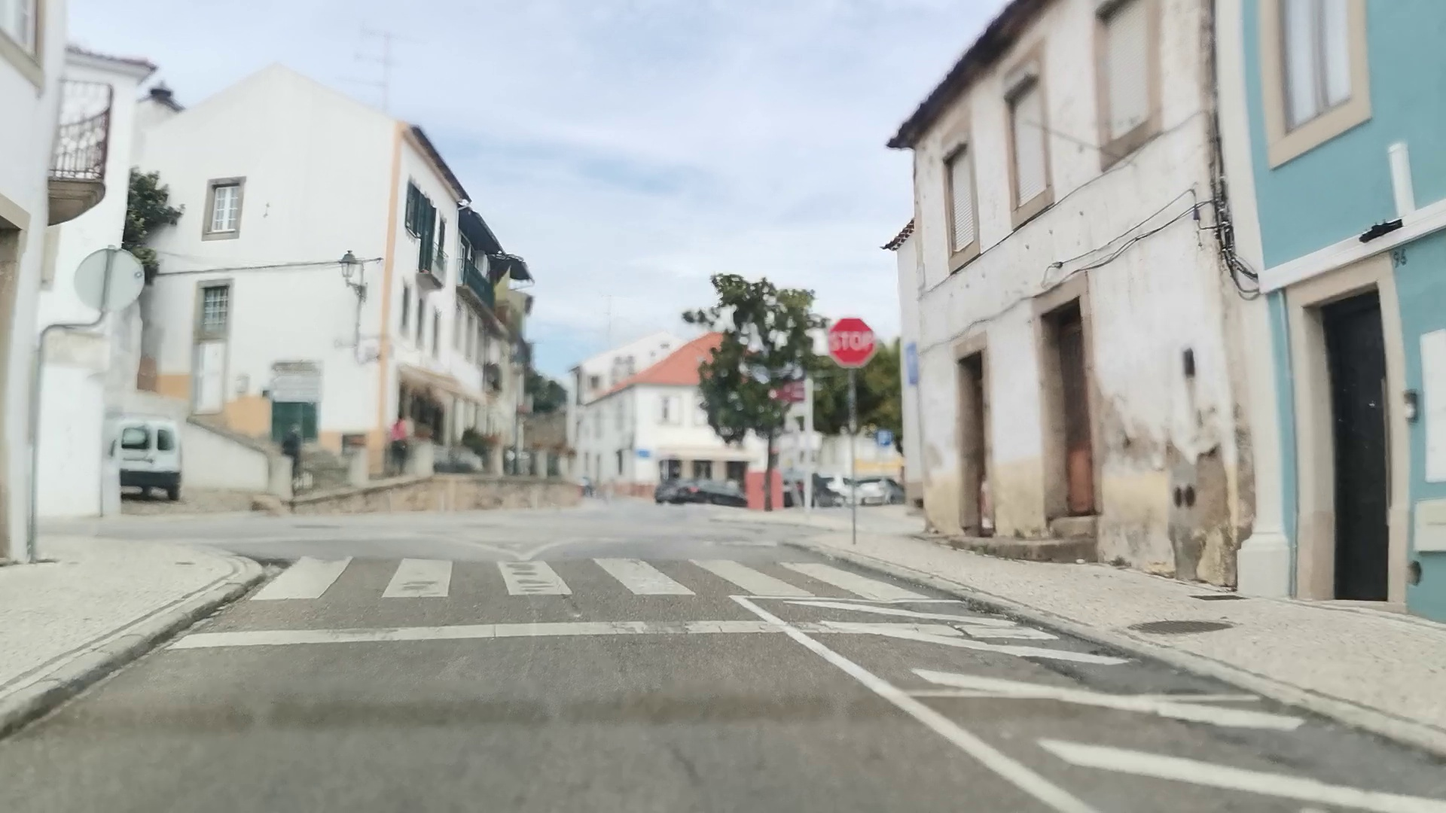Stairs: (250, 556, 938, 605)
